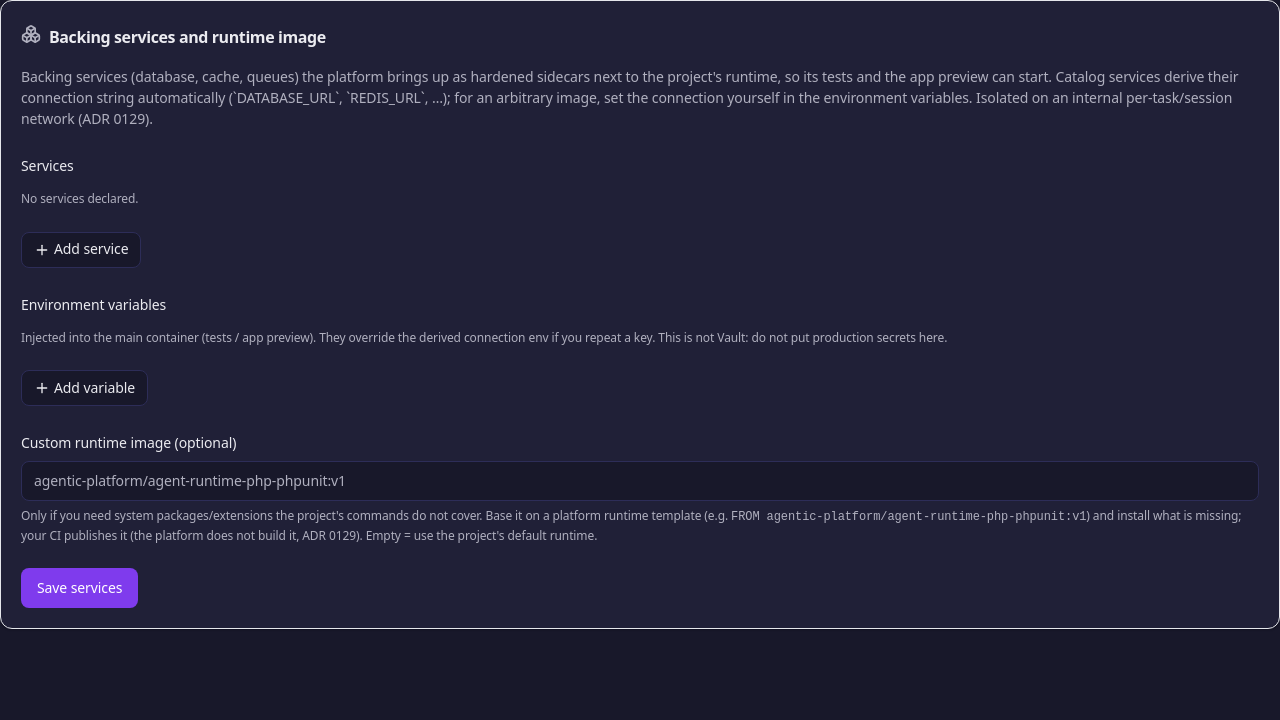
runtime-services-section — el catálogo y las validaciones › la fila de servicio y sus etiquetas accesibles se traducen
Click the button with test id "add-service". click: (81, 250)
box: [21,232,142,268]
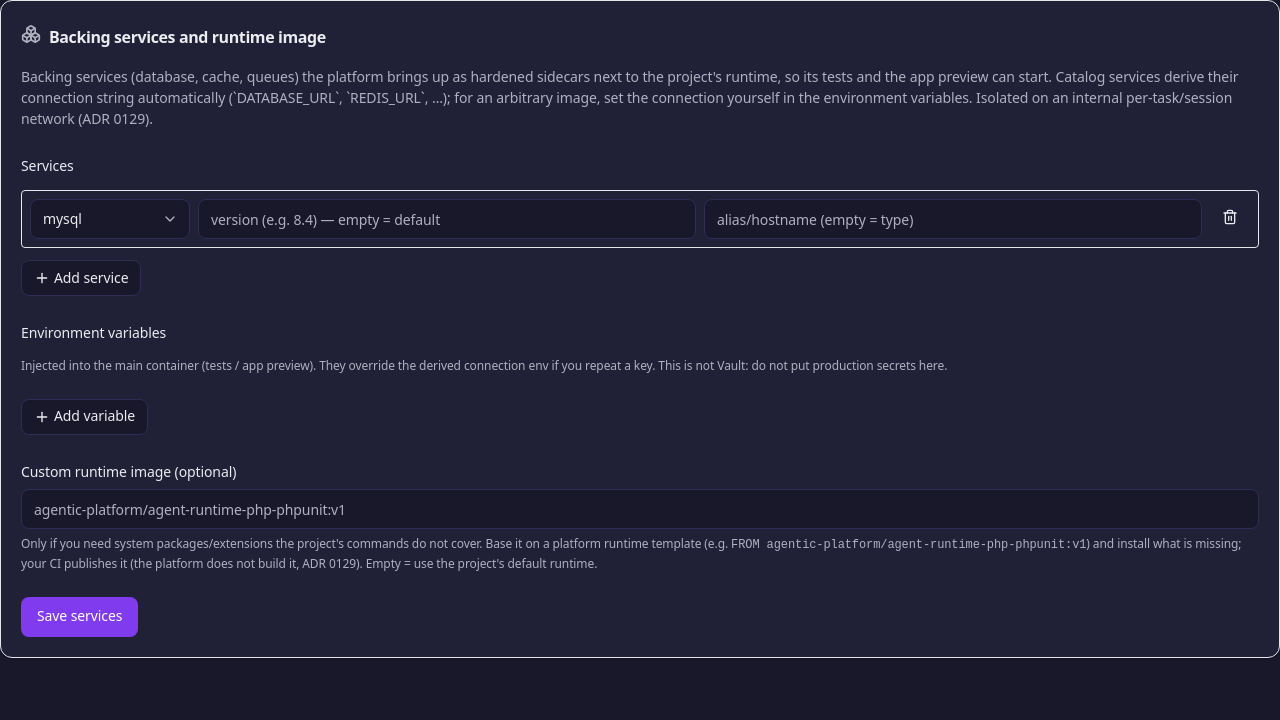
Check: the dropdown named "Service type" is shown, box [30,199,190,239]
Check: the field named "Alias (hostname)" is shown, box [704,199,1202,239]
